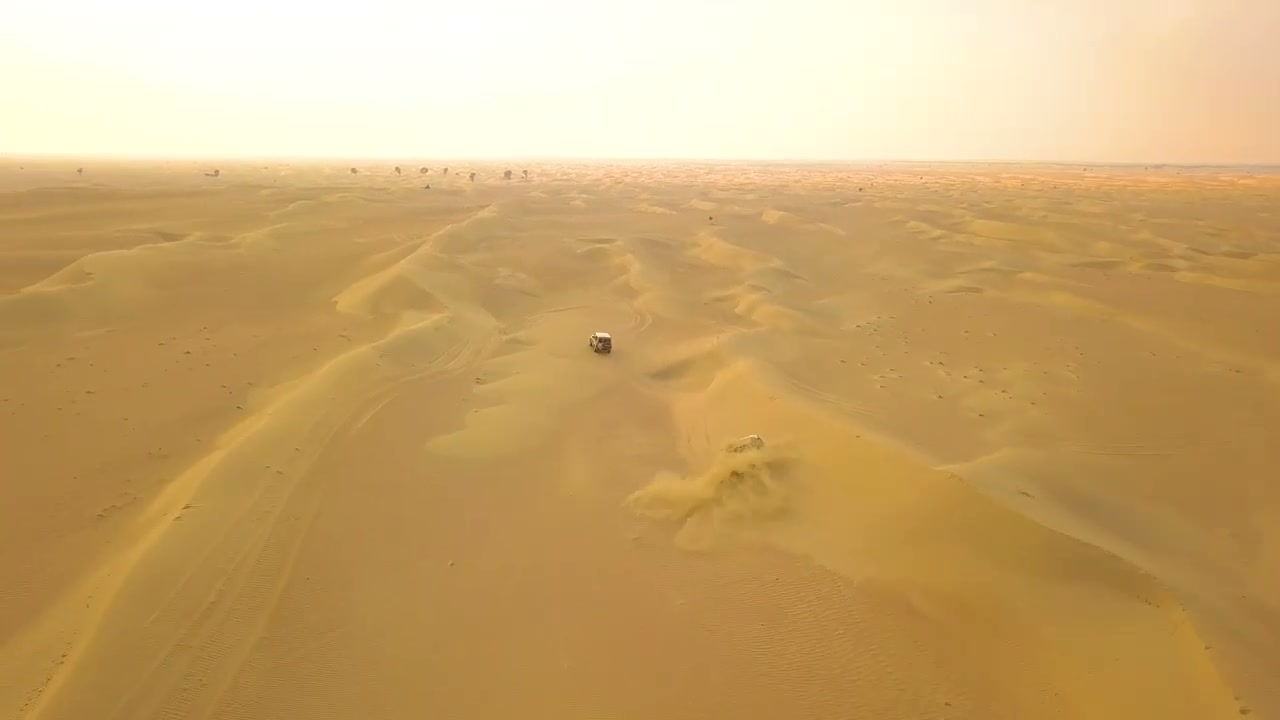vehicle_track: (115, 332, 466, 719)
